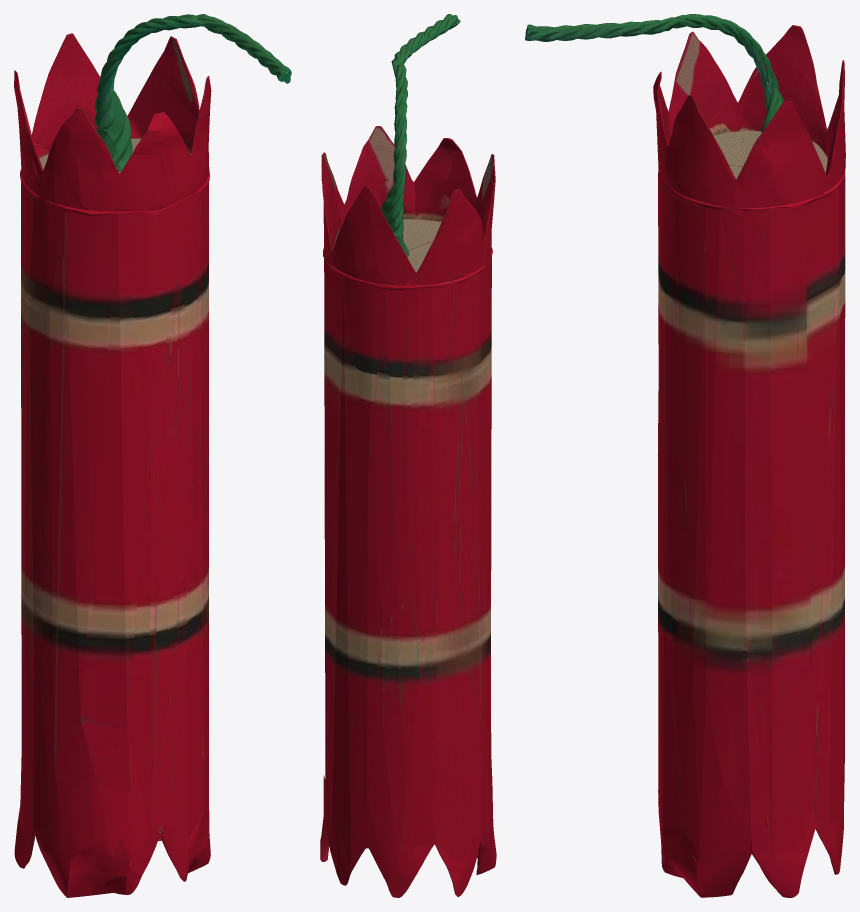
Rendered from firework_cracker.glb.
3 views of the same model, side by side, from view 1: azimuth 30°, elevation 25°; view 2: azimuth 150°, elevation 25°; view 3: azimuth 270°, elevation 25° (orthographic). The views are drawn at different scales.
Parts seen in each view (by area): view 1: firework_cracker_0; view 2: firework_cracker_0; view 3: firework_cracker_0.
Part boxes in pixels (bbox=[...]): firework_cracker_0: bbox=[14, 14, 291, 897]; firework_cracker_0: bbox=[320, 14, 496, 897]; firework_cracker_0: bbox=[525, 14, 845, 897].
Bounding box in the file's own units: 0.0322 × 0.16 × 0.0533.
Materials: 1 (1 with a texture image).
